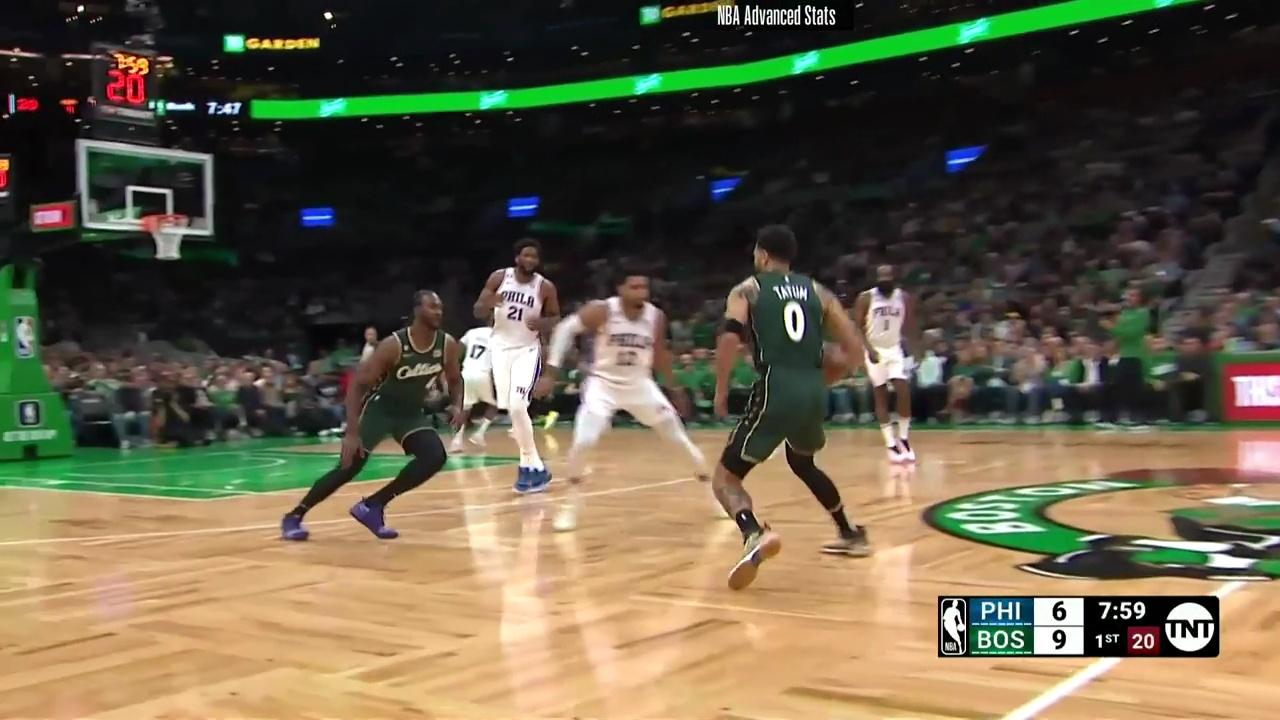Backboard: (76, 141, 215, 240)
Ball: (821, 343, 849, 385)
Basket: (147, 215, 194, 257)
Person: (706, 233, 876, 584), (278, 288, 458, 553), (552, 263, 715, 534), (467, 237, 562, 509), (852, 260, 925, 476), (449, 310, 501, 456)
Referee: (355, 324, 382, 362)
Shot Clock: (90, 49, 157, 133), (0, 154, 15, 207)
